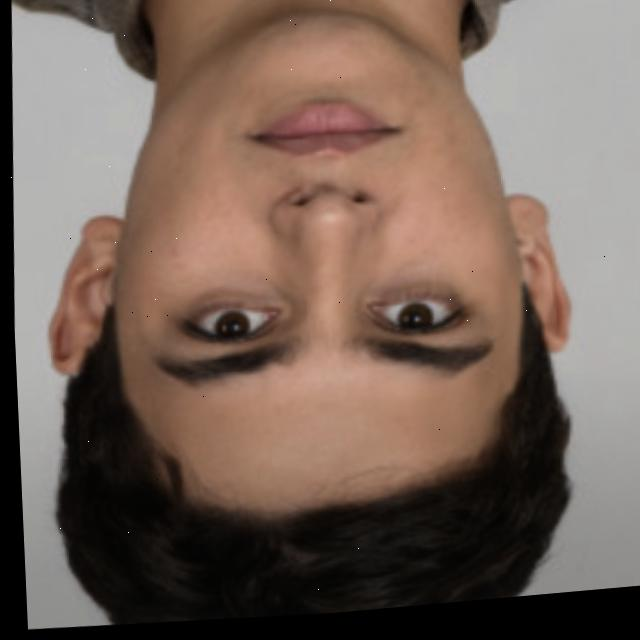natural: (54, 33, 577, 636)
